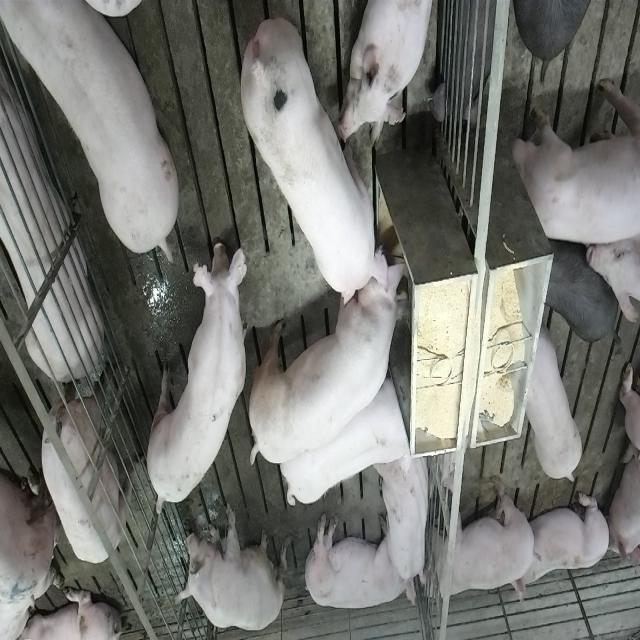Feeding: (238, 14, 398, 308), (252, 245, 416, 467)
Lateral_lying: (302, 512, 418, 612)
Sitting: (174, 502, 286, 632)
Standing: (5, 0, 182, 258), (144, 227, 246, 512), (508, 78, 638, 250), (33, 360, 134, 564), (280, 378, 410, 512), (422, 472, 538, 608), (524, 323, 587, 488), (542, 237, 620, 343)
Sternal_lying: (342, 0, 437, 145), (516, 484, 612, 606), (377, 449, 433, 588)
